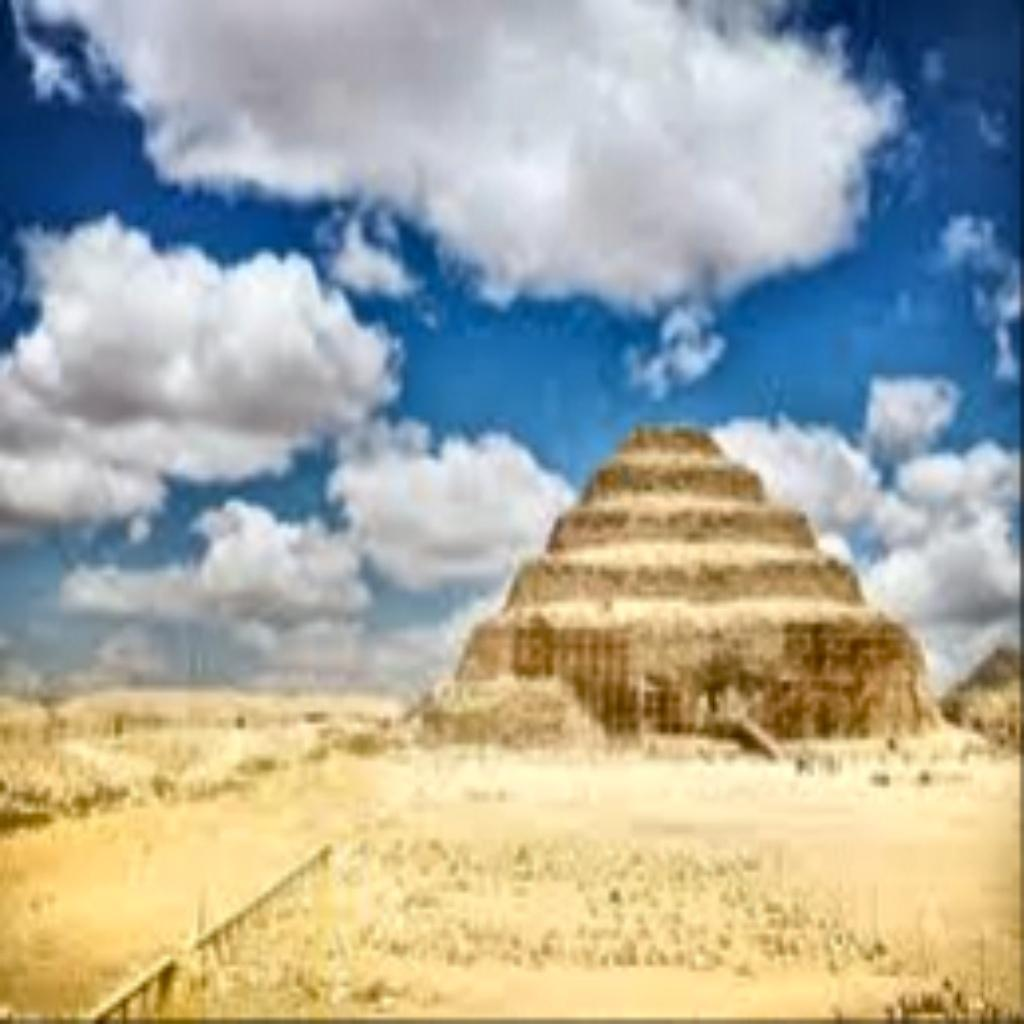Pyramid of Djoser: (411, 406, 945, 754)
